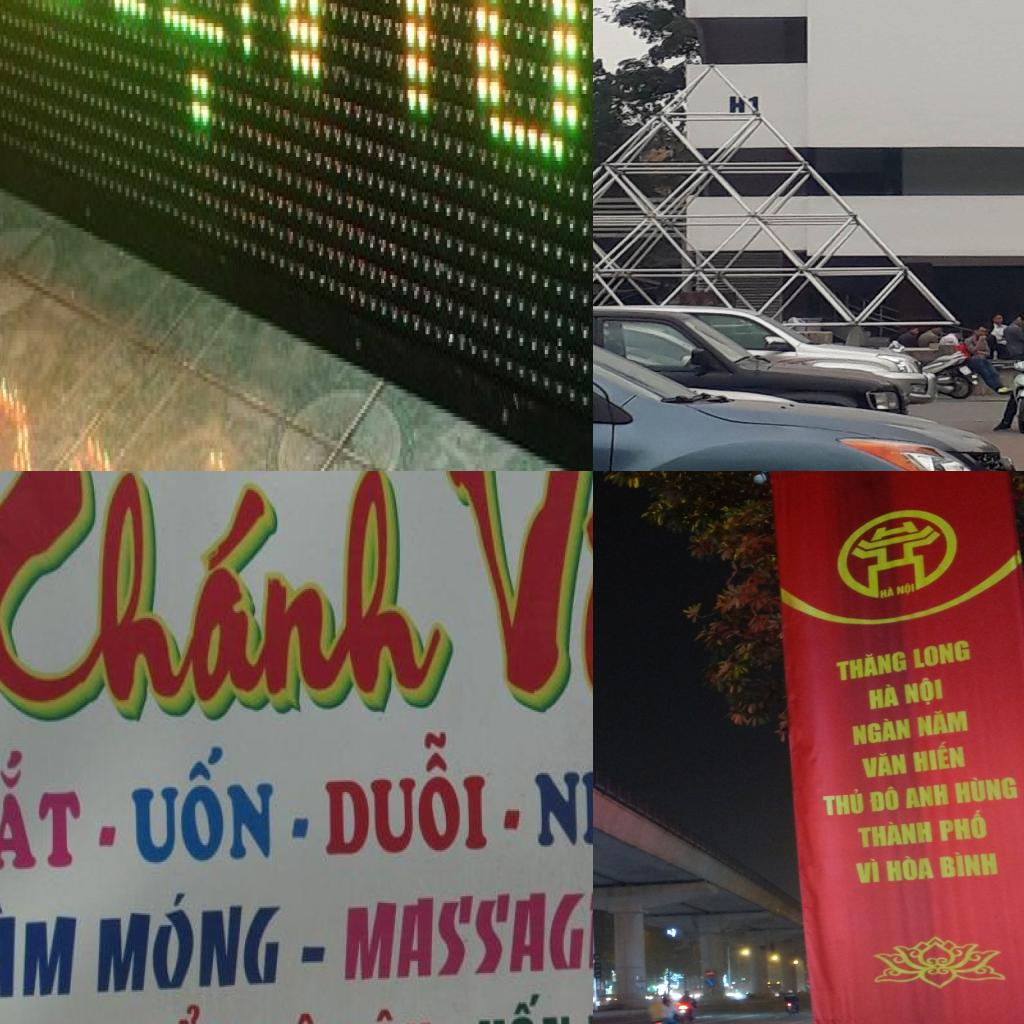text: (0, 471, 467, 778), (7, 0, 332, 180), (421, 471, 593, 720), (321, 726, 524, 864), (94, 884, 335, 999), (340, 882, 593, 986), (127, 736, 313, 870), (0, 742, 123, 885), (0, 893, 85, 1009), (531, 734, 593, 874), (119, 996, 250, 1024), (475, 988, 576, 1024), (830, 646, 911, 684), (852, 818, 935, 850), (951, 772, 1021, 806), (910, 637, 973, 671), (910, 738, 969, 774), (936, 807, 991, 845), (848, 714, 913, 746), (936, 849, 1002, 880), (913, 705, 971, 739), (900, 674, 948, 710), (883, 853, 937, 883), (818, 786, 868, 818), (857, 750, 910, 780), (904, 781, 952, 811), (865, 681, 903, 711), (868, 784, 901, 815), (852, 857, 883, 885), (726, 93, 763, 113), (895, 581, 916, 598), (877, 584, 896, 600)
